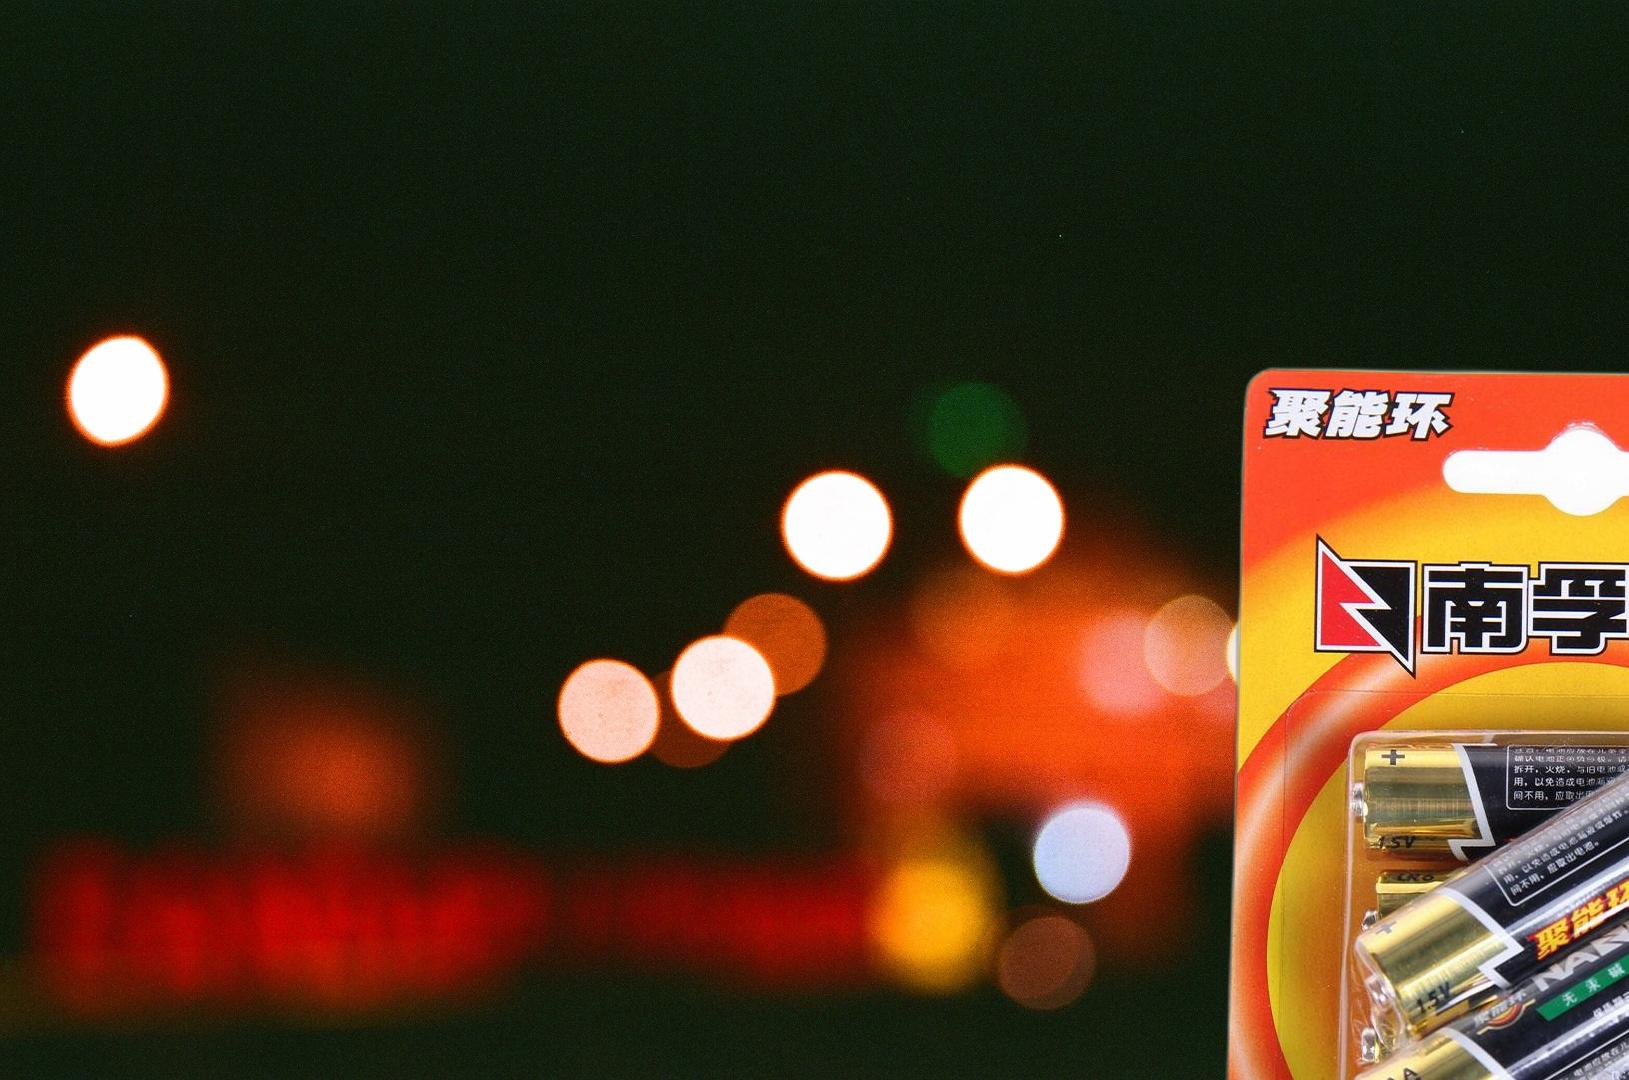battery: (1208, 358, 1629, 1080)
